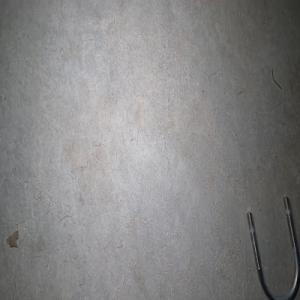ClampPart: (245, 195, 300, 300)
